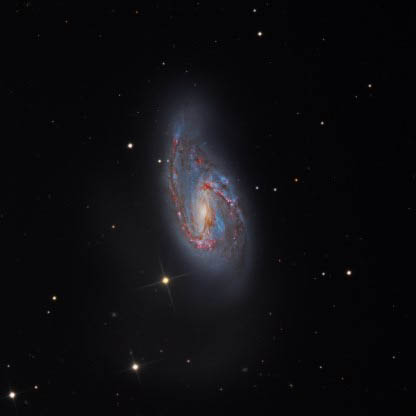Messier 66: (129, 88, 275, 315)
